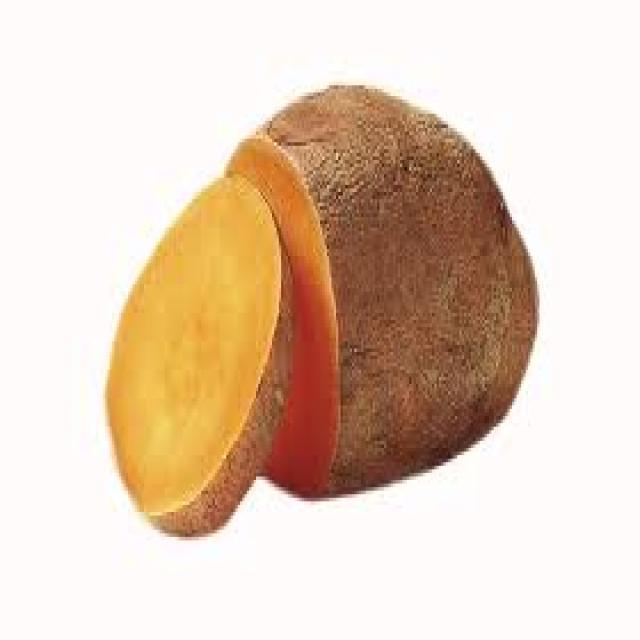Potato: (111, 77, 580, 528)
